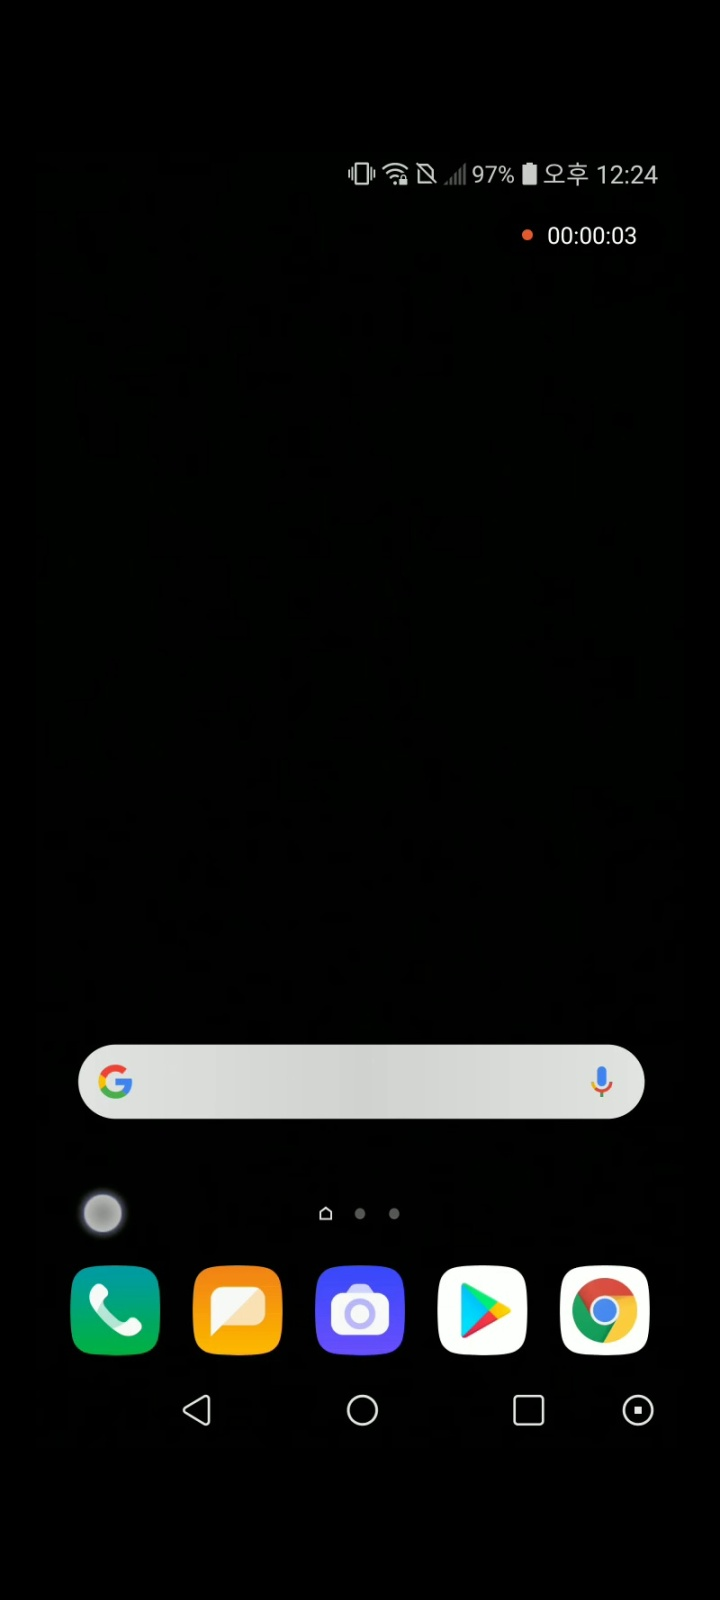Cursor: (81, 1191, 126, 1236)
